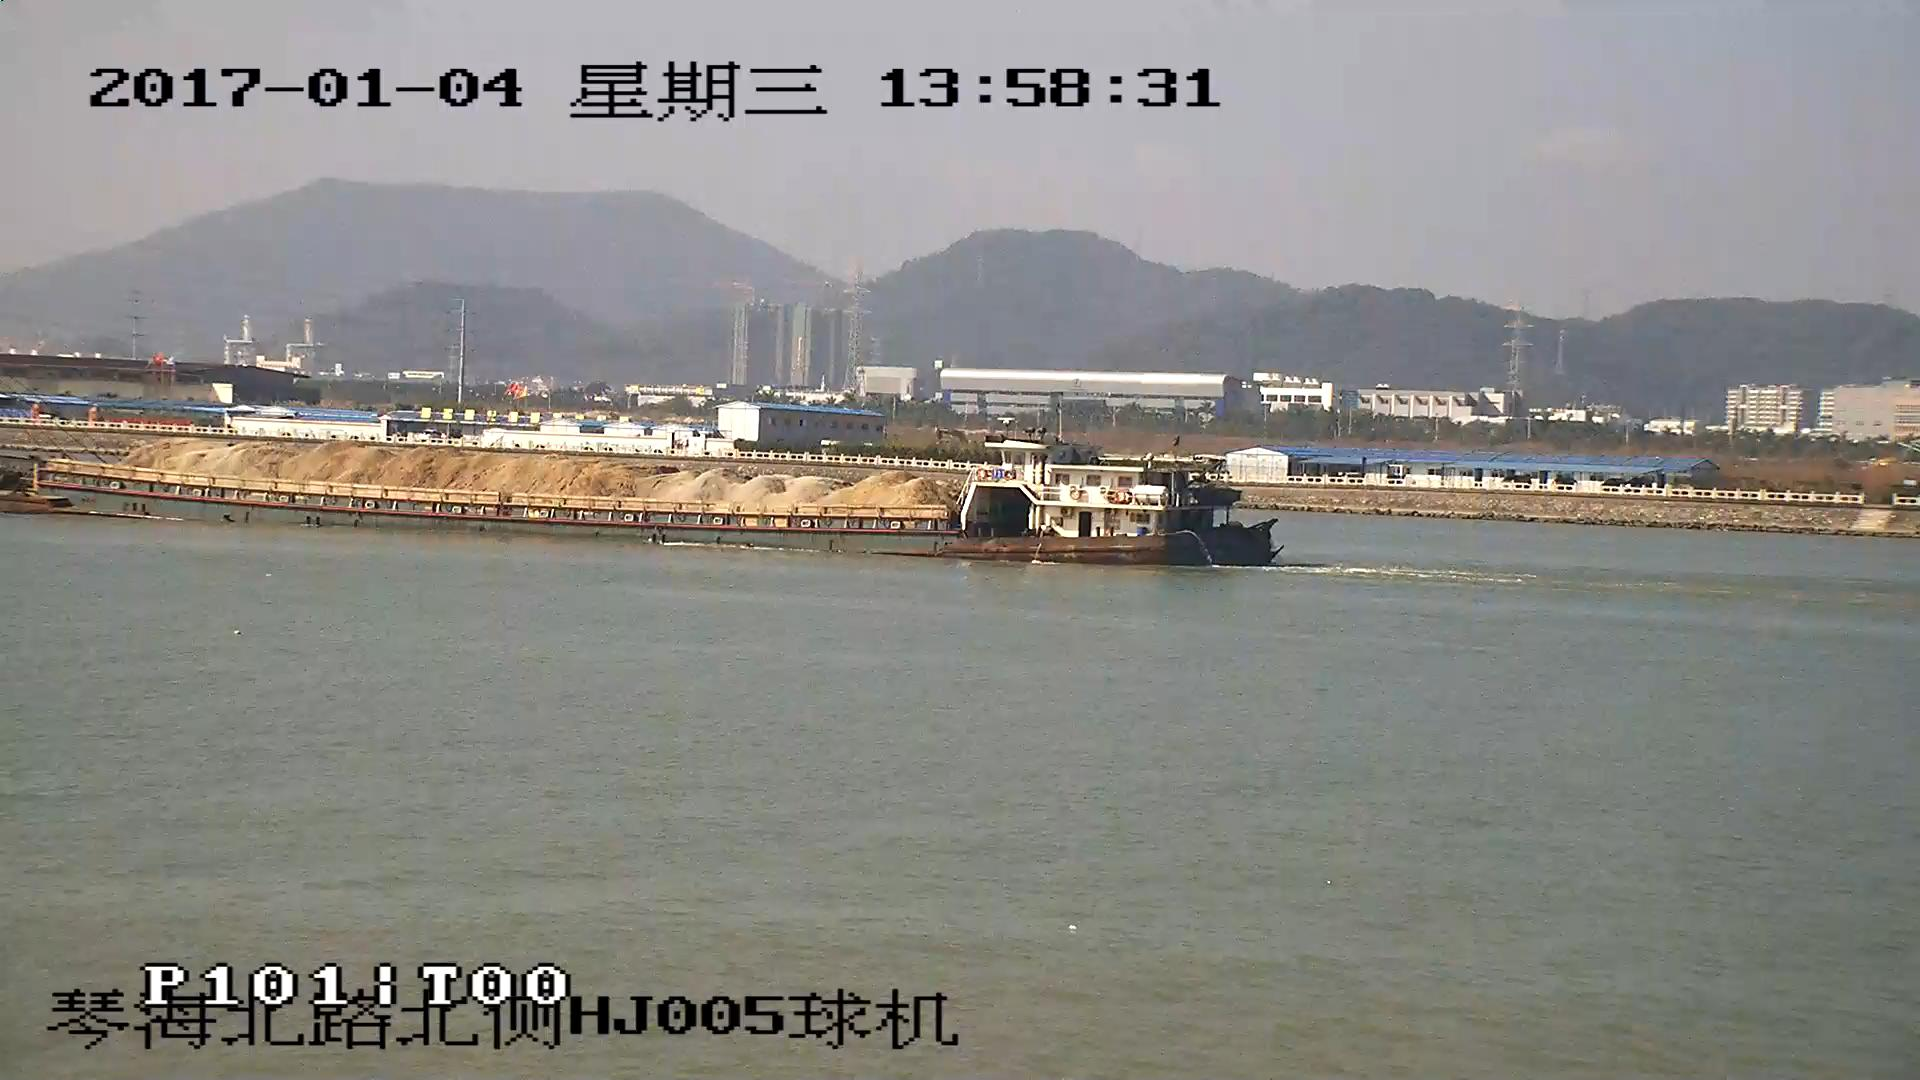ore carrier: (1, 437, 1288, 565)
